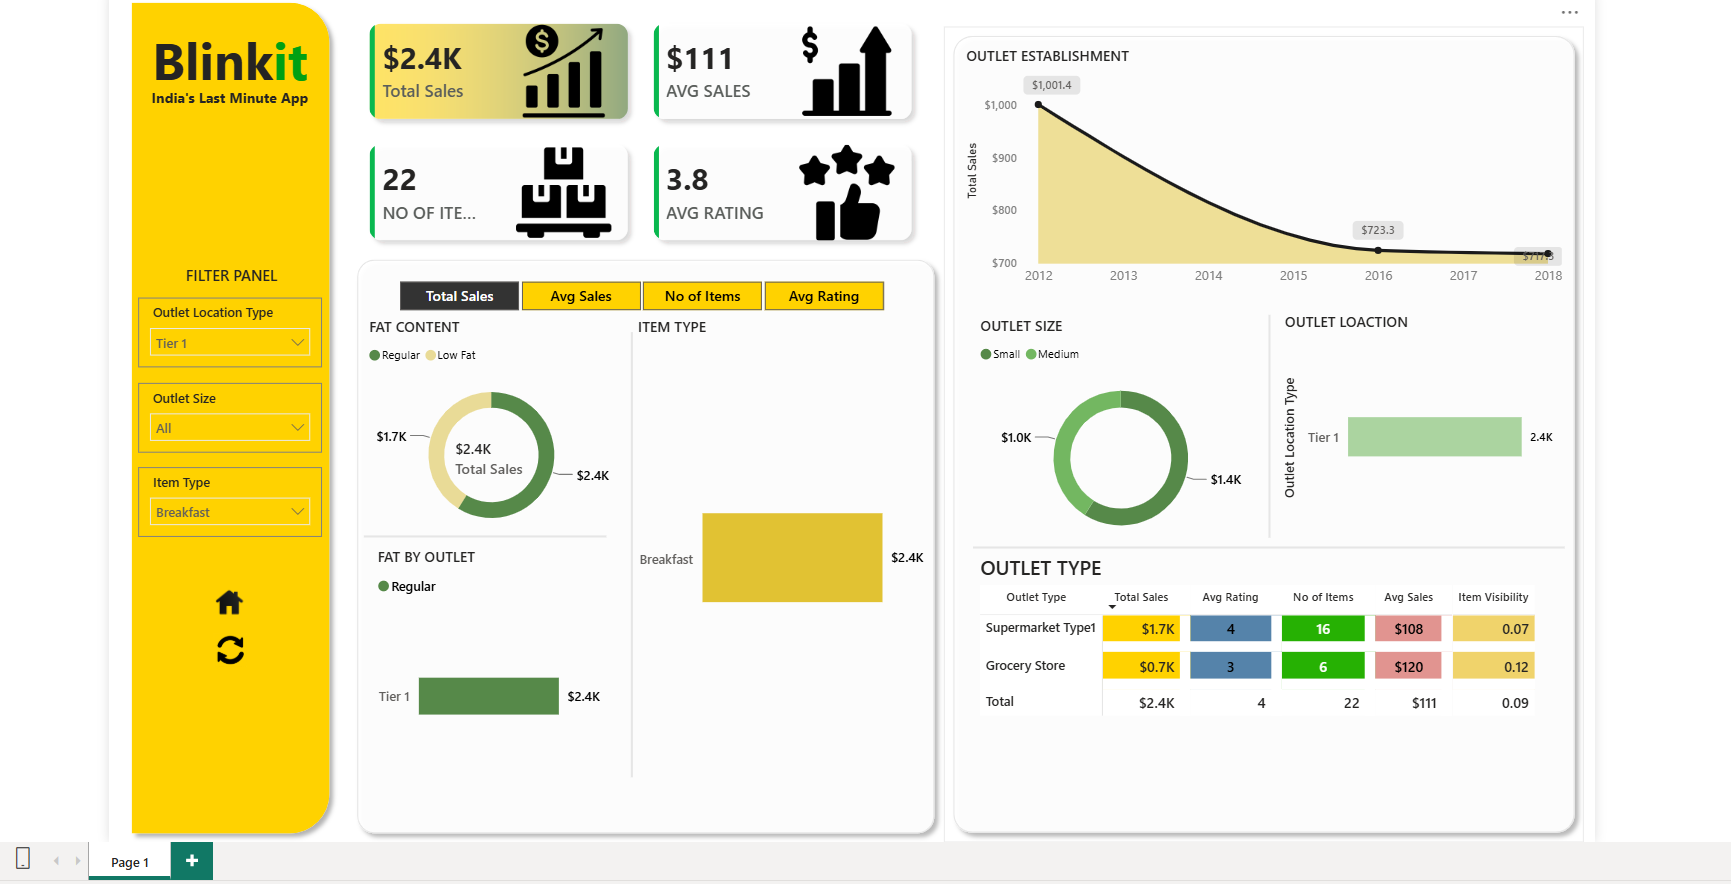

This screenshot's page, from the dashboard's own definition file:
{"tool":"powerbi","page":{"name":"Page 1","canvas":[1400,800],"ordinal":0},"visuals":[{"type":"shape","box":[12.2,0,204.4,800.4],"z":0},{"type":"textbox","box":[27.1,25,173,74],"z":1000},{"type":"textbox","box":[27.1,84.4,173,30.2],"z":2000},{"type":"cardVisual","fields":{"Data":["BlinkIT Grocery Data.Total Sales","BlinkIT Grocery Data.Avg Sales","BlinkIT Grocery Data.No of Items","BlinkIT Grocery Data.Avg Rating"]},"box":[217,0,569.6,263.9],"z":3000},{"type":"shape","box":[224.8,241.9,561.5,558.3],"z":4000},{"type":"donutChart","title":" FAT CONTENT","fields":{"Y":["BlinkIT Grocery Data.Total Sales"],"Category":["BlinkIT Grocery Data.Item Fat Content"]},"box":[239.6,304.4,240.8,217.1],"z":5000},{"type":"slicer","fields":{"Values":["Metrics.Metrics"]},"box":[248.3,264.5,505.3,39.9],"z":6000},{"type":"cardVisual","fields":{"Data":["BlinkIT Grocery Data.Total Sales"]},"box":[297,400.5,124.8,74.9],"z":7000},{"type":"clusteredBarChart","title":"FAT BY OUTLET","fields":{"Y":["BlinkIT Grocery Data.Total Sales"],"Category":["BlinkIT Grocery Data.Outlet Location Type"],"Series":["BlinkIT Grocery Data.Item Fat Content"]},"box":[248.3,520.3,219.6,229.6],"z":8000},{"type":"shape","box":[239.6,502.8,228.3,18.7],"z":9000},{"type":"shape","box":[459.2,319.4,67.4,419.2],"z":10000},{"type":"barChart","title":"ITEM TYPE","fields":{"Y":["BlinkIT Grocery Data.Total Sales"],"Category":["BlinkIT Grocery Data.Item Type"]},"box":[492.9,304.4,279.5,434.2],"z":11000},{"type":"shape","box":[786.3,32,603,768.2],"z":12000},{"type":"lineChart","title":"OUTLET ESTABLISHMENT","fields":{"Y":["BlinkIT Grocery Data.Total Sales"],"Category":["BlinkIT Grocery Data.Outlet Establishment Year"]},"box":[802.3,49,571.1,235.5],"z":13000},{"type":"shape","box":[814,512.5,557.2,19.2],"z":14000},{"type":"donutChart","title":" OUTLET SIZE","fields":{"Y":["BlinkIT Grocery Data.Total Sales"],"Category":["BlinkIT Grocery Data.Outlet Size"]},"box":[816.1,302.6,275,225],"z":15000},{"type":"shape","box":[1059,302.6,68.2,209.9],"z":16000},{"type":"clusteredBarChart","title":"OUTLET LOACTION","fields":{"Y":["Sum(BlinkIT Grocery Data.Sales)"],"Category":["BlinkIT Grocery Data.Outlet Location Type"]},"box":[1102.7,300.4,270.6,212],"z":17000},{"type":"pivotTable","title":"OUTLET TYPE","fields":{"Rows":["BlinkIT Grocery Data.Outlet Type"],"Values":["BlinkIT Grocery Data.Total Sales","BlinkIT Grocery Data.Avg Rating","BlinkIT Grocery Data.No of Items","BlinkIT Grocery Data.Avg Sales","Avg(BlinkIT Grocery Data.Item Visibility)"]},"box":[816.1,527.4,538,264.2],"z":18000},{"type":"slicer","fields":{"Values":["BlinkIT Grocery Data.Outlet Location Type"]},"box":[27.5,286.8,172.9,66.1],"z":18001},{"type":"slicer","fields":{"Values":["BlinkIT Grocery Data.Outlet Size"]},"box":[27.5,367.2,172.9,66.1],"z":18002},{"type":"slicer","fields":{"Values":["BlinkIT Grocery Data.Item Type"]},"box":[27.1,446.2,173,65.7],"z":18003},{"type":"textbox","box":[28.5,252.2,173.9,32.5],"z":18004},{"type":"image","box":[90.5,559.4,45.8,28.5],"z":18005},{"type":"image","box":[97.6,603.1,32.5,31.5],"z":18006}]}

Visuals, with their boxes on the page's 1400x800 design canvas (x1, y1, x2, y2). These are canvas units, not pixel positions in the 1731x884 screenshot, which may show the page scaled, cropped or inside an application window:
shape: (x1=12, y1=0, x2=217, y2=800)
textbox: (x1=27, y1=25, x2=200, y2=99)
textbox: (x1=27, y1=84, x2=200, y2=115)
cardVisual - BlinkIT Grocery Data.Total Sales x BlinkIT Grocery Data.Avg Sales: (x1=217, y1=0, x2=787, y2=264)
shape: (x1=225, y1=242, x2=786, y2=800)
" FAT CONTENT" donutChart: (x1=240, y1=304, x2=480, y2=522)
slicer - Metrics.Metrics: (x1=248, y1=264, x2=754, y2=304)
cardVisual - BlinkIT Grocery Data.Total Sales: (x1=297, y1=400, x2=422, y2=475)
"FAT BY OUTLET" clusteredBarChart: (x1=248, y1=520, x2=468, y2=750)
shape: (x1=240, y1=503, x2=468, y2=522)
shape: (x1=459, y1=319, x2=527, y2=739)
"ITEM TYPE" barChart: (x1=493, y1=304, x2=772, y2=739)
shape: (x1=786, y1=32, x2=1389, y2=800)
"OUTLET ESTABLISHMENT" lineChart: (x1=802, y1=49, x2=1373, y2=284)
shape: (x1=814, y1=512, x2=1371, y2=532)
" OUTLET SIZE" donutChart: (x1=816, y1=303, x2=1091, y2=528)
shape: (x1=1059, y1=303, x2=1127, y2=512)
"OUTLET LOACTION" clusteredBarChart: (x1=1103, y1=300, x2=1373, y2=512)
"OUTLET TYPE" pivotTable: (x1=816, y1=527, x2=1354, y2=792)
slicer - BlinkIT Grocery Data.Outlet Location Type: (x1=28, y1=287, x2=200, y2=353)
slicer - BlinkIT Grocery Data.Outlet Size: (x1=28, y1=367, x2=200, y2=433)
slicer - BlinkIT Grocery Data.Item Type: (x1=27, y1=446, x2=200, y2=512)
textbox: (x1=28, y1=252, x2=202, y2=285)
image: (x1=90, y1=559, x2=136, y2=588)
image: (x1=98, y1=603, x2=130, y2=635)
